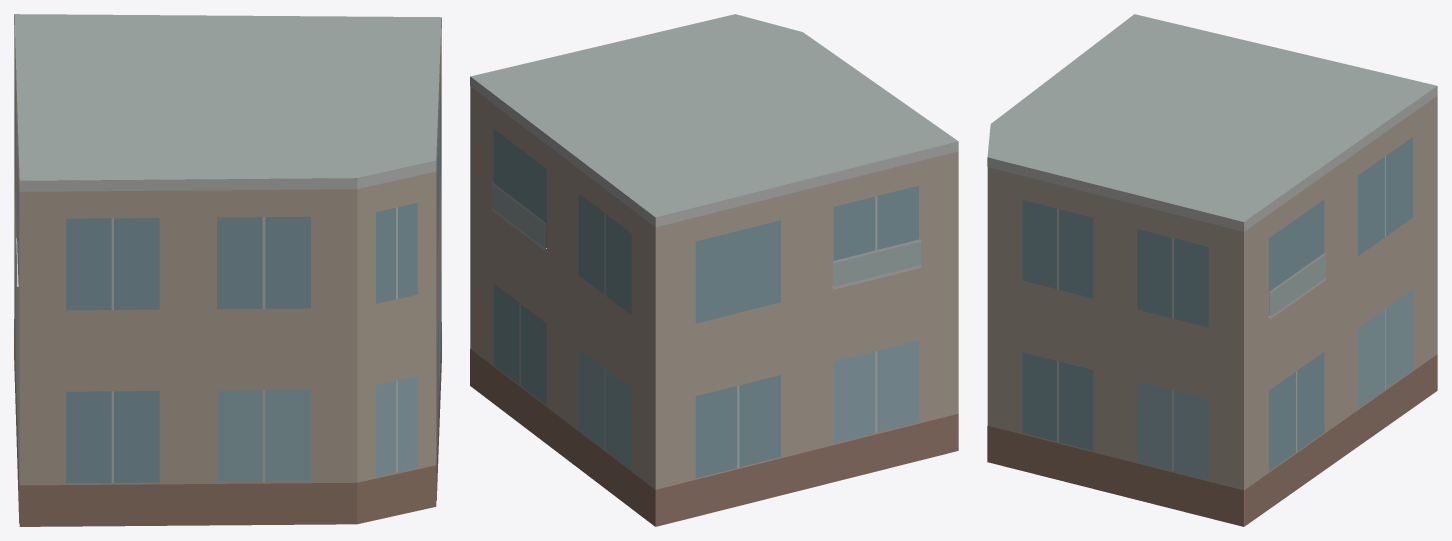
Rendered from survey-upis-32920203.glb.
3 views of the same model, side by side, from view 1: azimuth 30°, elevation 25°; view 2: azimuth 150°, elevation 25°; view 3: azimuth 270°, elevation 25° (orthographic). The views are drawn at different scales.
Parts seen in each view (by area): view 1: survey-upis-32920203.tmp; view 2: survey-upis-32920203.tmp; view 3: survey-upis-32920203.tmp.
Boxes of the visible parts, bbox=[...] form: survey-upis-32920203.tmp: bbox=[14, 14, 441, 526]; survey-upis-32920203.tmp: bbox=[470, 14, 958, 526]; survey-upis-32920203.tmp: bbox=[987, 14, 1437, 526].
Size of the model in its own units: 11.14 by 7.6 by 10.18.
